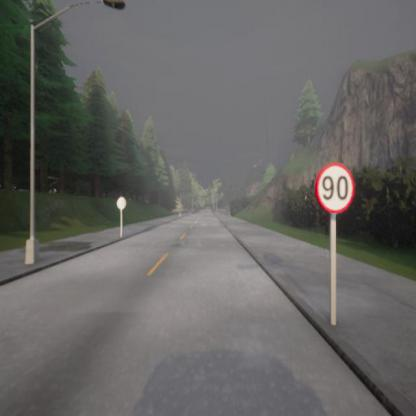traffic_sign_90: (314, 160, 356, 214)
